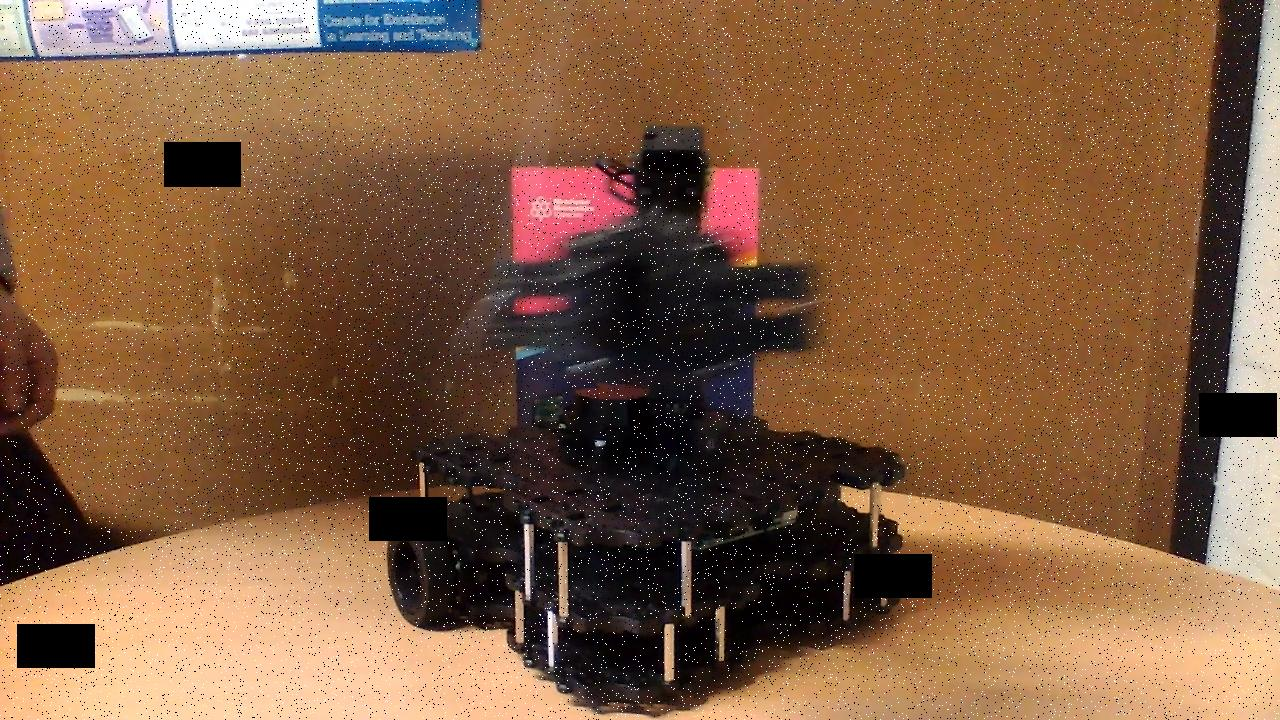Hand: (478, 220, 822, 383)
base: (382, 384, 913, 709)
